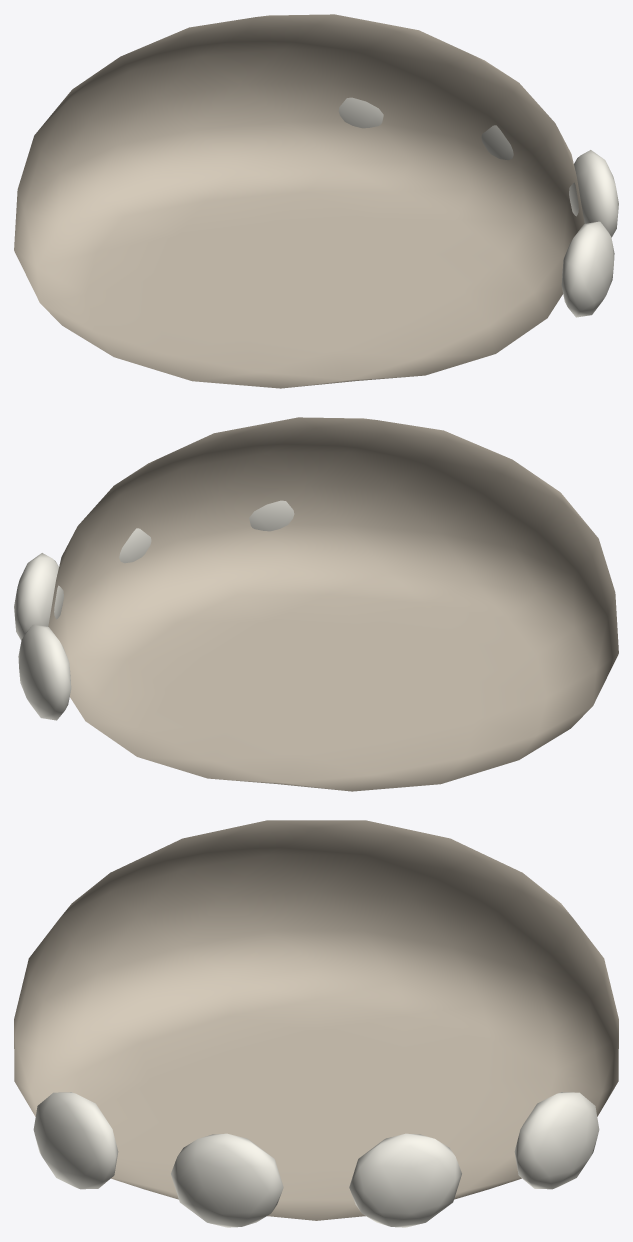
File: creature.elephantfoot.glb
3 views of the same model, one above another, from view 1: azimuth 30°, elevation 25°; view 2: azimuth 150°, elevation 25°; view 3: azimuth 270°, elevation 25° (orthographic). The views are drawn at different scales.
Parts seen in each view (by area): view 1: Skin, Bone; view 2: Skin, Bone; view 3: Skin, Bone.
Boxes of the visible parts, x1,y1,x2,y2 form: Skin: (14, 14, 584, 388); Bone: (338, 97, 618, 317); Skin: (48, 417, 618, 791); Bone: (14, 500, 294, 720); Skin: (14, 820, 618, 1220); Bone: (33, 1092, 599, 1227).
Size of the model in its own units: 0.3707 by 0.155 by 0.35.
